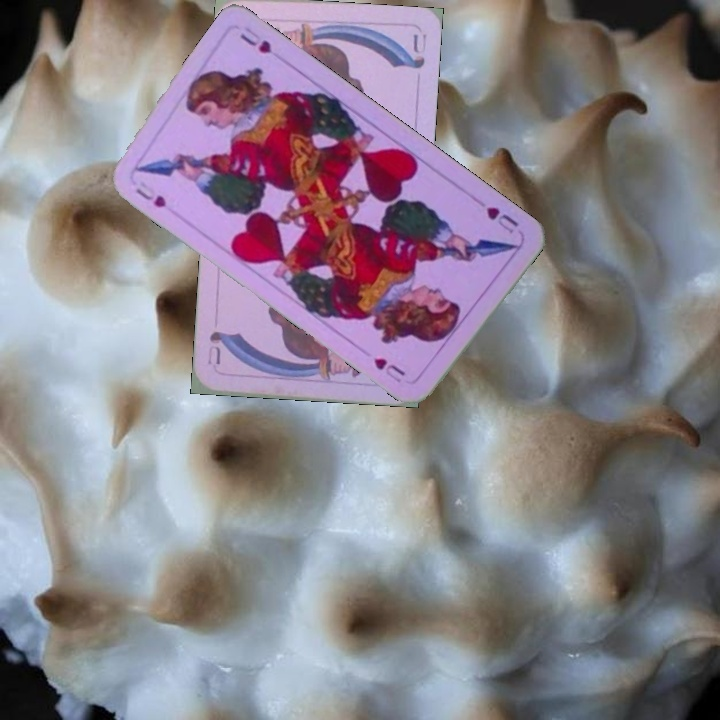HU: (482, 202, 522, 237), (132, 184, 169, 211)
